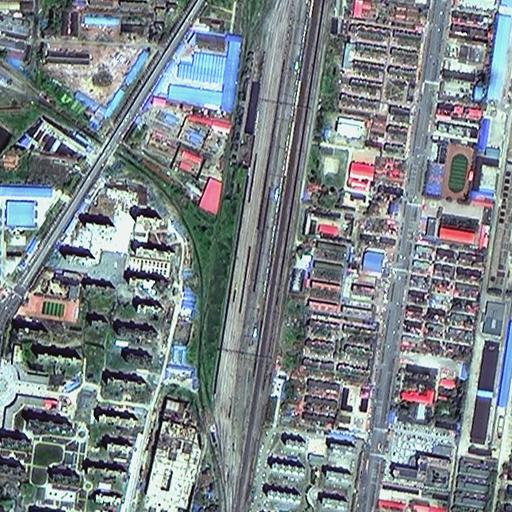school: (415, 139, 486, 247), (15, 269, 83, 325)
